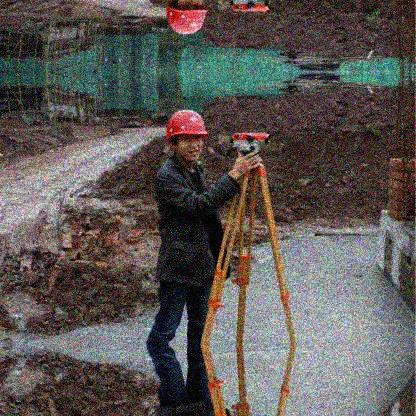helmet: (165, 109, 209, 161), (166, 1, 209, 36)
